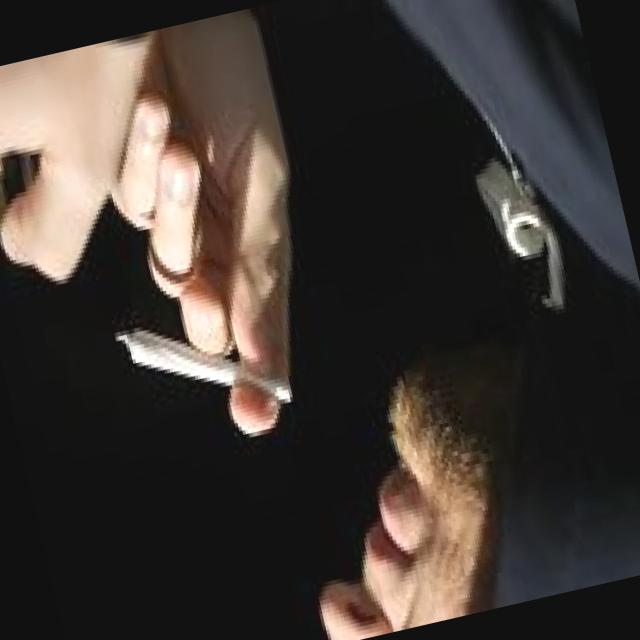cigarette: (112, 296, 298, 445)
